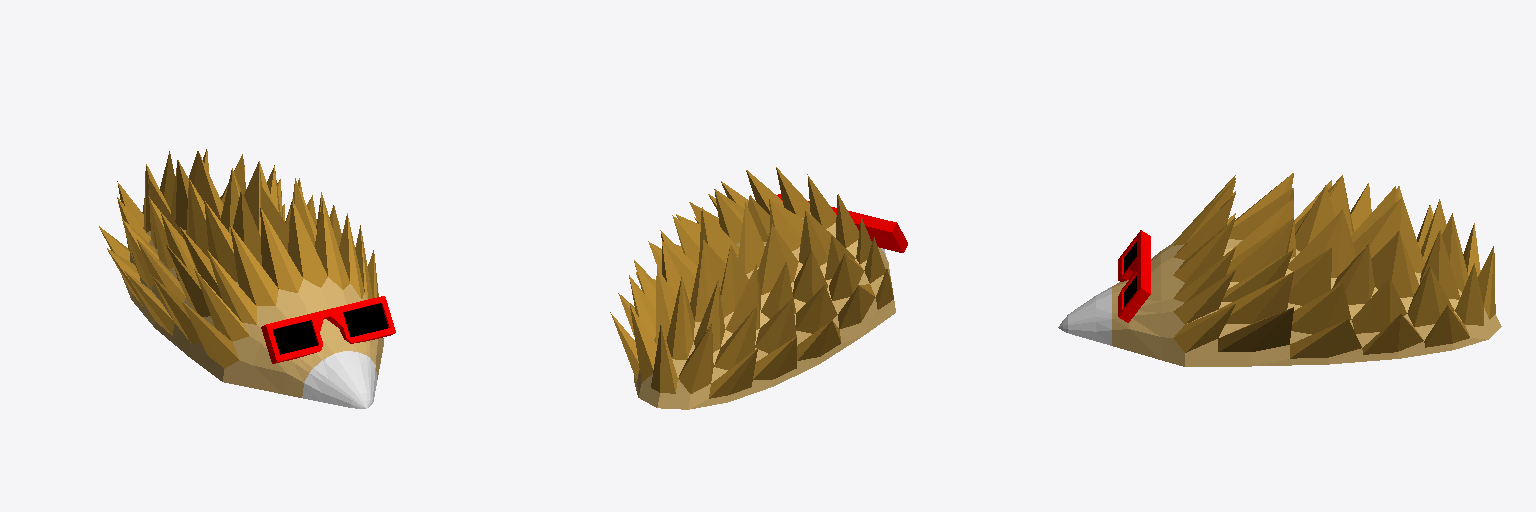
3 views of the same model, side by side, from view 1: azimuth 30°, elevation 25°; view 2: azimuth 150°, elevation 25°; view 3: azimuth 270°, elevation 25° (orthographic).
Visible parts, largest first — view 1: polySurface25; view 2: polySurface25; view 3: polySurface25.
Boxes of the visible parts, <box> form: polySurface25: <box>99,149,395,408</box>; polySurface25: <box>610,167,907,409</box>; polySurface25: <box>1058,173,1501,366</box>.
Size of the model in its own units: 3.96 by 2.76 by 7.72.
Materials: 1 (1 with a texture image).